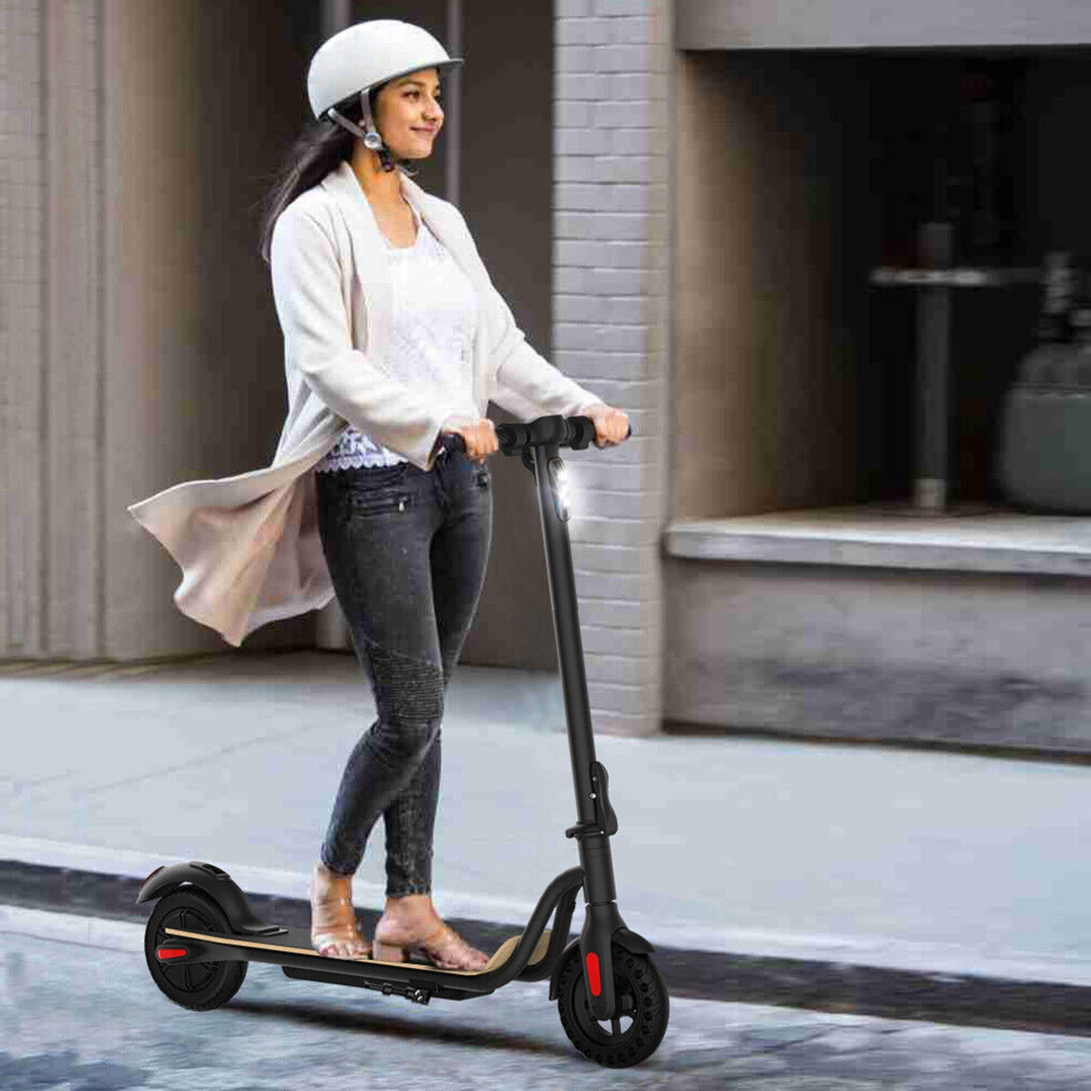helmet: (298, 24, 457, 191)
human: (277, 14, 642, 964)
kickboard: (139, 908, 660, 1065)
